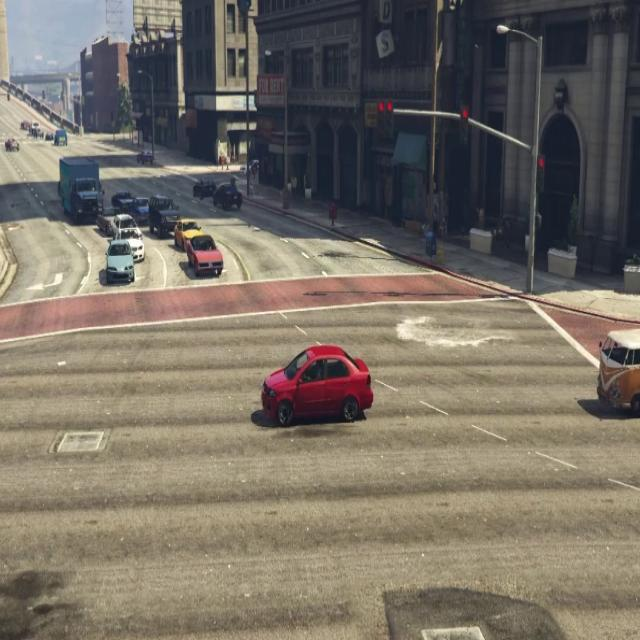Red-Signal: (374, 90, 399, 153), (453, 96, 474, 151), (530, 144, 550, 198)
